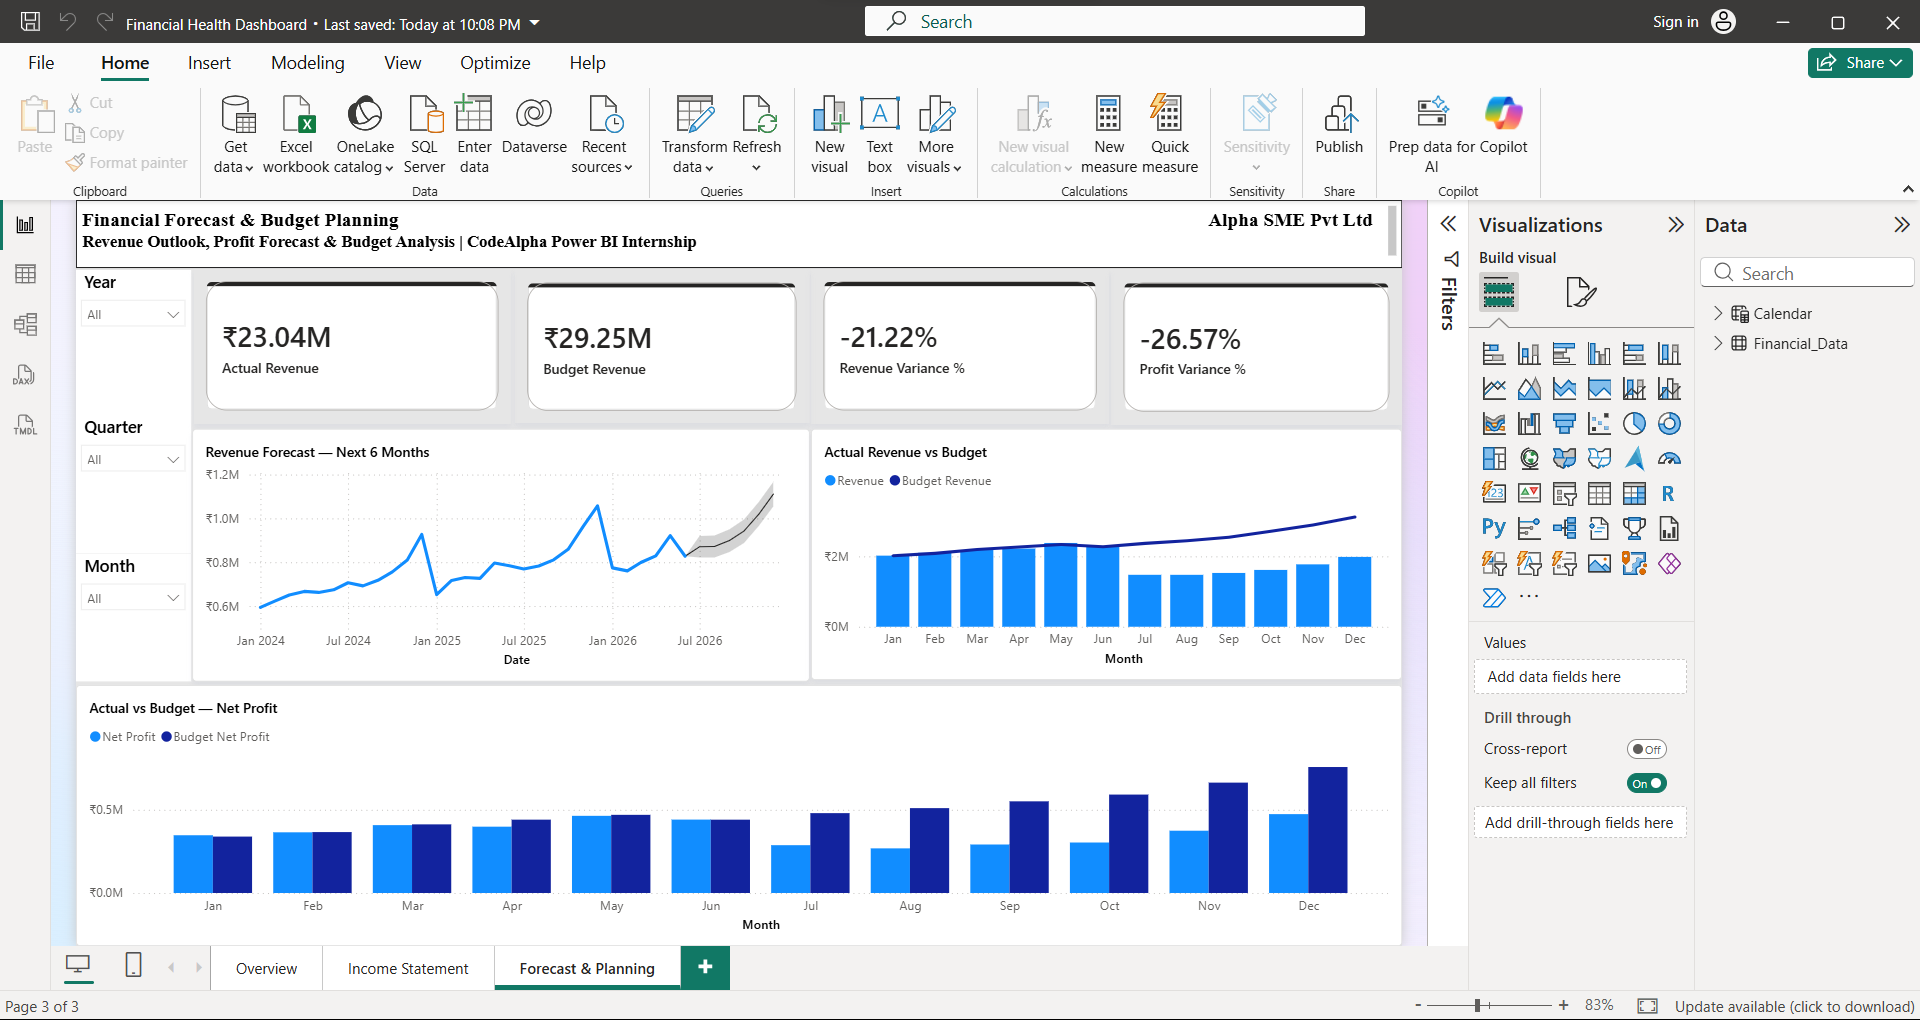

The dashboard page shown, as its layout file describes it:
{"tool":"powerbi","page":{"name":"Forecast & Planning","canvas":[1280,720],"ordinal":2},"visuals":[{"type":"slicer","fields":{"Values":["Calendar.Year"]},"box":[0,67.6,111,139.9],"z":0},{"type":"slicer","fields":{"Values":["Calendar.Quarter"]},"box":[0,207.5,111,133.9],"z":1000},{"type":"slicer","fields":{"Values":["Calendar.Month"]},"box":[0,341.4,111,123.1],"z":2000},{"type":"textbox","box":[0,0,1280.3,65.9],"z":3000},{"type":"cardVisual","title":"Net Profit","fields":{"Data":["Calendar.Revenue Variance %"]},"box":[709.4,66.4,288.3,149.6],"z":4000},{"type":"cardVisual","title":"Net Profit Margin %","fields":{"Data":["Calendar.Net Profit Variance %"]},"box":[998.9,67.6,281.1,149.6],"z":5000},{"type":"cardVisual","title":"Net Profit","fields":{"Data":["Calendar.Budget Revenue"]},"box":[423.5,67.6,284.7,148.4],"z":6000},{"type":"cardVisual","title":"Net Profit","fields":{"Data":["Calendar.Revenue"]},"box":[113.4,66.4,306.4,149.6],"z":7000},{"type":"lineChart","title":"Revenue Forecast — Next 6 Months","fields":{"Category":["Calendar.Date"],"Y":["Calendar.Revenue"]},"box":[112.2,220.8,596,243.7],"z":8000},{"type":"lineClusteredColumnComboChart","title":"Actual Revenue vs Budget","fields":{"Category":["Calendar.Month"],"Y":["Calendar.Revenue"],"Y2":["Calendar.Budget Revenue"]},"box":[709.4,220.8,570.6,242.5],"z":9000},{"type":"clusteredColumnChart","title":"Actual vs Budget — Net Profit","fields":{"Category":["Calendar.Month"],"Y":["Calendar.Net Profit","Calendar.Budget Net Profit"]},"box":[0,468.1,1280,252.1],"z":10000}]}

Visuals, with their boxes on the page's 1280x720 design canvas (x1, y1, x2, y2). These are canvas units, not pixel positions in the 1920x1020 screenshot, which may show the page scaled, cropped or inside an application window:
slicer - Calendar.Year: Rect(0, 68, 111, 208)
slicer - Calendar.Quarter: Rect(0, 208, 111, 341)
slicer - Calendar.Month: Rect(0, 341, 111, 464)
textbox: Rect(0, 0, 1280, 66)
"Net Profit" cardVisual: Rect(709, 66, 998, 216)
"Net Profit Margin %" cardVisual: Rect(999, 68, 1280, 217)
"Net Profit" cardVisual: Rect(424, 68, 708, 216)
"Net Profit" cardVisual: Rect(113, 66, 420, 216)
"Revenue Forecast — Next 6 Months" lineChart: Rect(112, 221, 708, 464)
"Actual Revenue vs Budget" lineClusteredColumnComboChart: Rect(709, 221, 1280, 463)
"Actual vs Budget — Net Profit" clusteredColumnChart: Rect(0, 468, 1280, 720)
